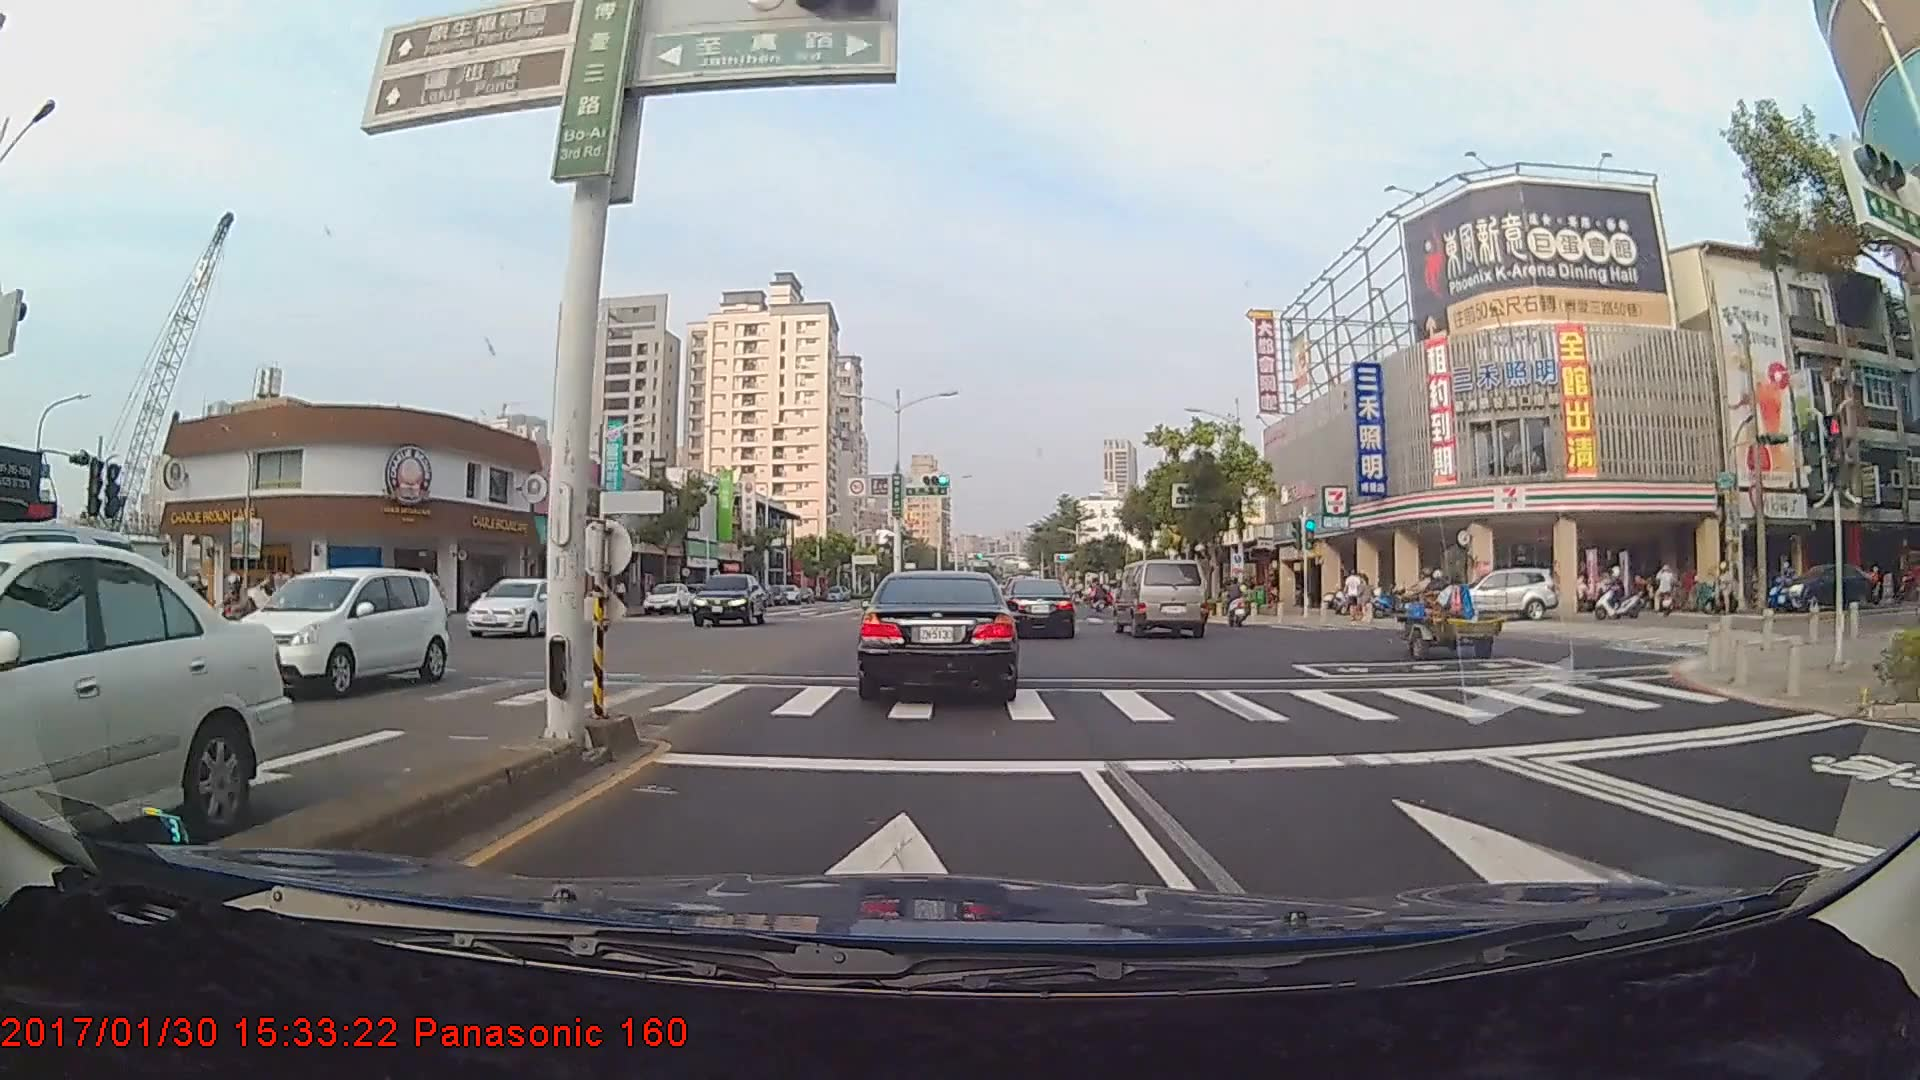pedestrian: (1344, 569, 1364, 621)
rider: (1590, 564, 1654, 628), (1216, 577, 1254, 630)
vehicle: (0, 548, 244, 869), (215, 564, 450, 701), (0, 522, 135, 747), (860, 569, 1015, 702), (1117, 558, 1208, 638), (1423, 571, 1557, 625), (462, 572, 568, 637), (1004, 577, 1076, 638), (690, 573, 766, 627), (644, 582, 692, 614)
